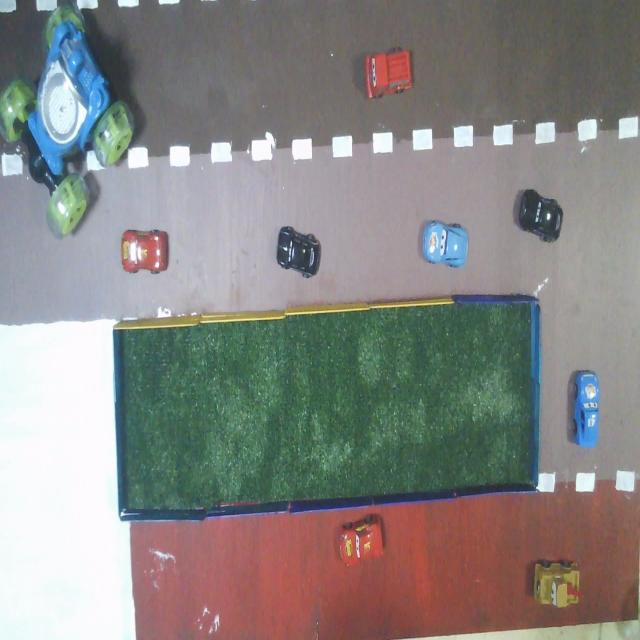driver car f: (0, 2, 134, 236)
small cars: (517, 189, 563, 242), (534, 560, 581, 607), (340, 514, 383, 565), (277, 226, 320, 277), (365, 51, 412, 97), (422, 221, 468, 267), (122, 230, 168, 274), (573, 371, 599, 446)
